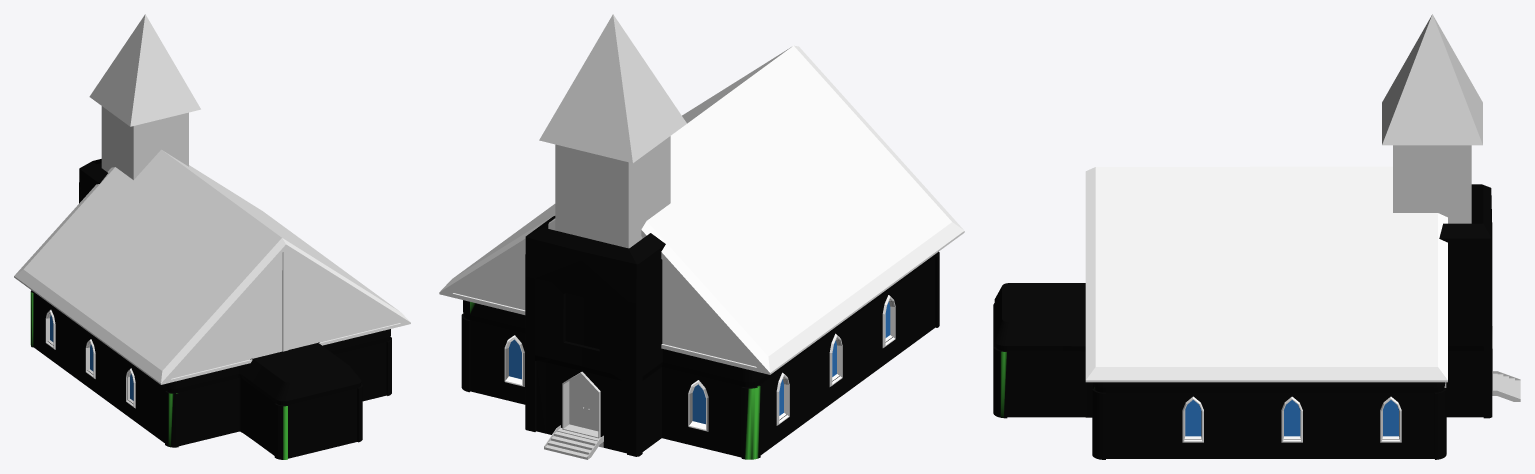
File: ChurchComplete.FBX
3 renders of one model, left to right at view 1: azimuth 30°, elevation 25°; view 2: azimuth 150°, elevation 25°; view 3: azimuth 270°, elevation 25°, orthographic. The views are drawn at different scales.
Visible parts, largest first — view 1: Roof, Church, Tower, WindowFrame006; view 2: Roof, Church, Tower, WindowFrame006, Door2, Stairs, DoorFrame; view 3: Roof, Church, Tower, WindowFrame006, Stairs, ChurchWindow015, ChurchWindow013, ChurchWindow011.
Part boxes in pixels (x1,y1,x2,y2): Roof: [14, 149, 410, 384]; Church: [30, 159, 391, 459]; Tower: [89, 14, 200, 179]; WindowFrame006: [45, 309, 135, 408]; Roof: [439, 45, 964, 374]; Church: [461, 216, 939, 459]; Tower: [539, 14, 686, 248]; WindowFrame006: [504, 295, 895, 431]; Door2: [569, 373, 598, 431]; Stairs: [544, 425, 603, 459]; DoorFrame: [562, 371, 600, 438]; Roof: [1085, 166, 1447, 382]; Church: [993, 184, 1492, 459]; Tower: [1382, 14, 1482, 223]; WindowFrame006: [1182, 382, 1446, 442]; Stairs: [1492, 371, 1520, 401]; ChurchWindow015: [1185, 400, 1201, 436]; ChurchWindow013: [1284, 400, 1300, 436]; ChurchWindow011: [1383, 400, 1398, 436].
Size of the model in its own units: 1800 by 2111 by 2667.
